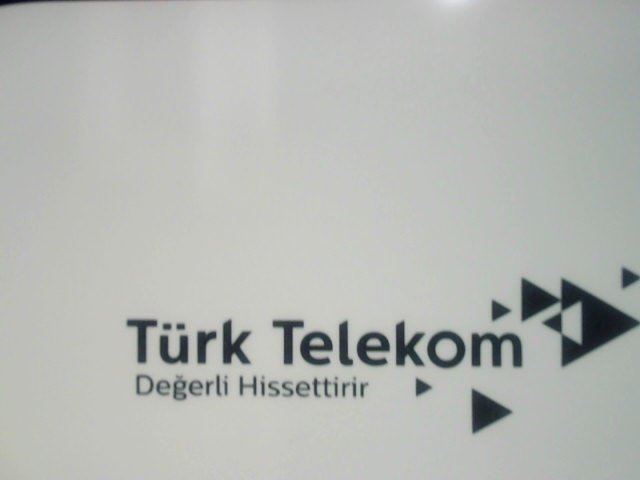AQ_TURKTelekom: (118, 268, 639, 434)
